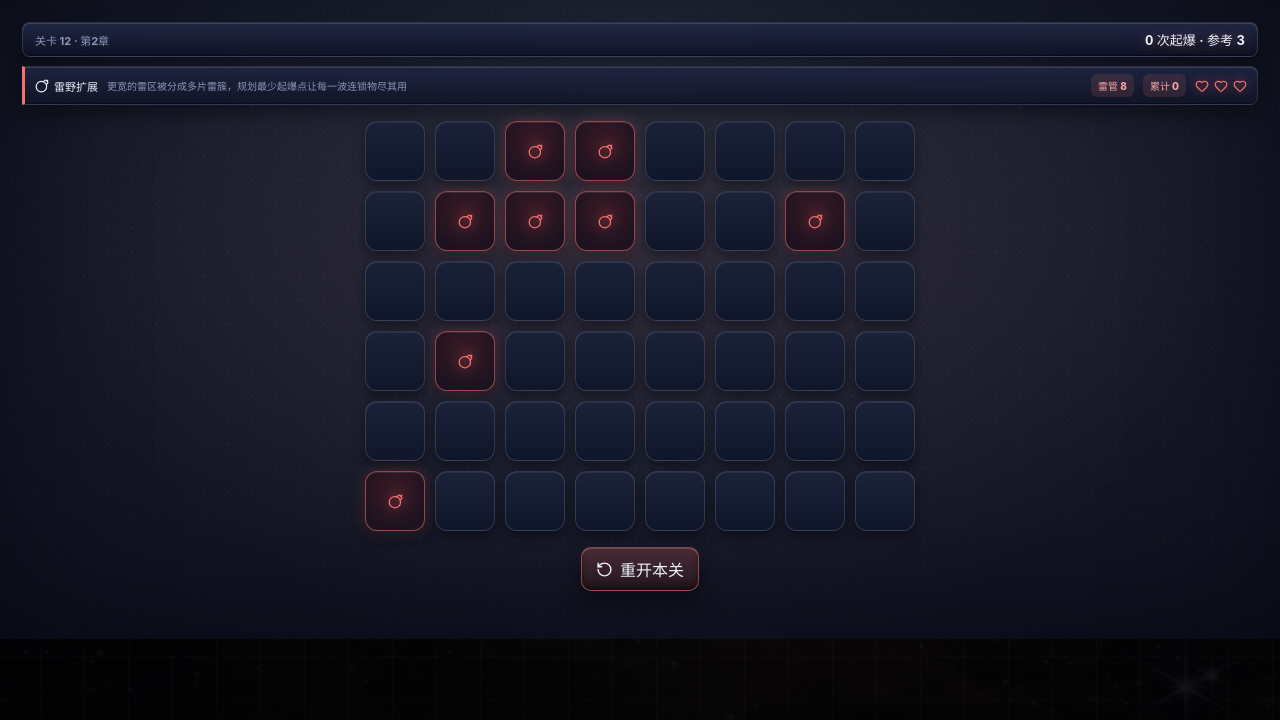
Test: fuse chain session › restarts the level from the button mid-chain
Click the button named "第5行第1列，空格" at [395, 431], box [365, 401, 425, 461]
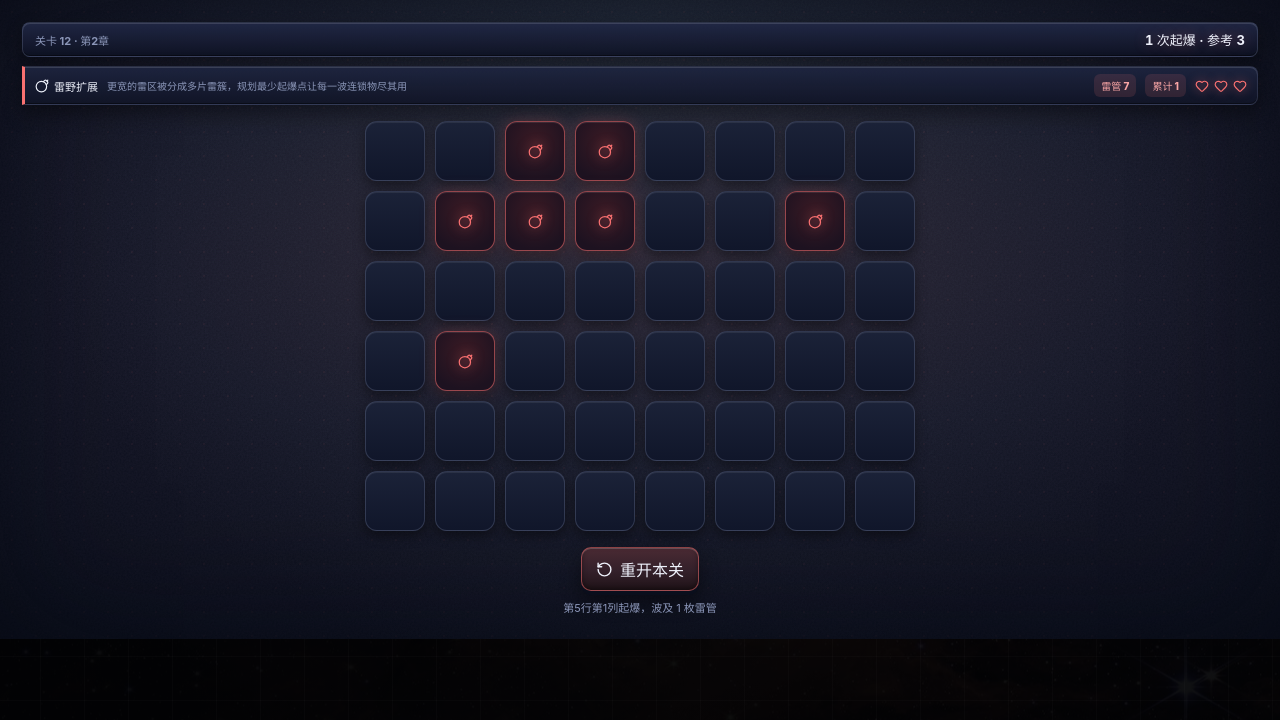
Check: the element with class "fuse-readout" shows "1 次起爆", box [22, 22, 1258, 57]
Click the button "重开本关" at [640, 569], box [581, 547, 699, 591]
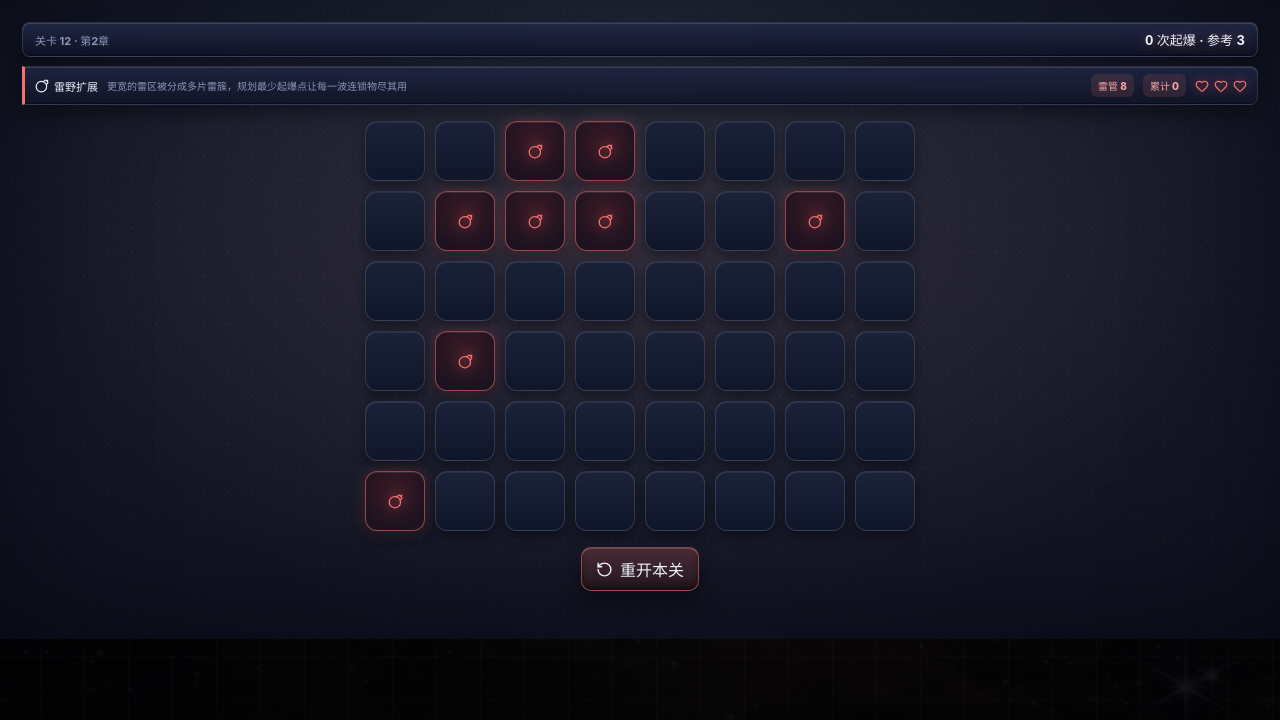
Check: the element with class "fuse-readout" shows "0 次起爆", box [22, 22, 1258, 57]
